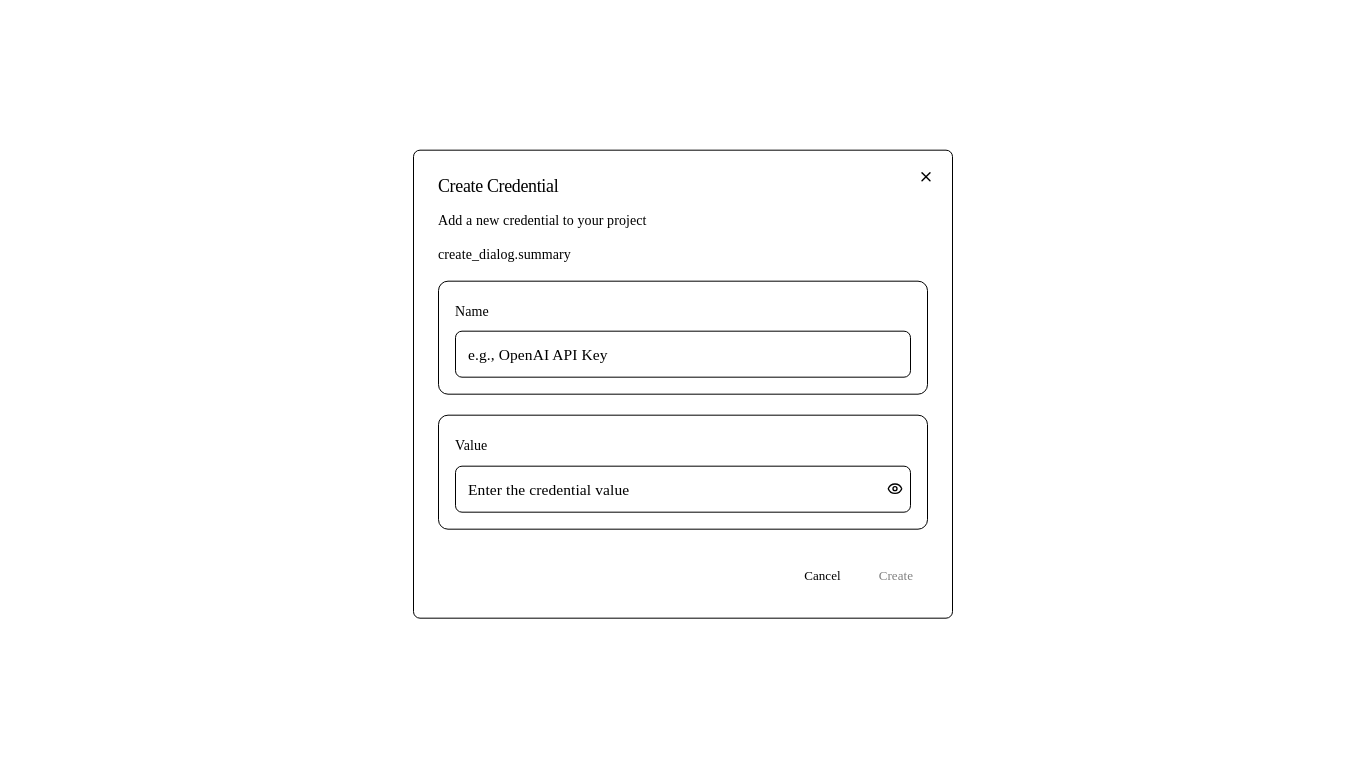
Test: CreateCredentialDialog › Form Validation › enables submit button when both fields have values
Type "My Credential" into the field labelled "Name".
click(683, 355); type("My Credential")  # box x1=455 y1=331 x2=911 y2=378
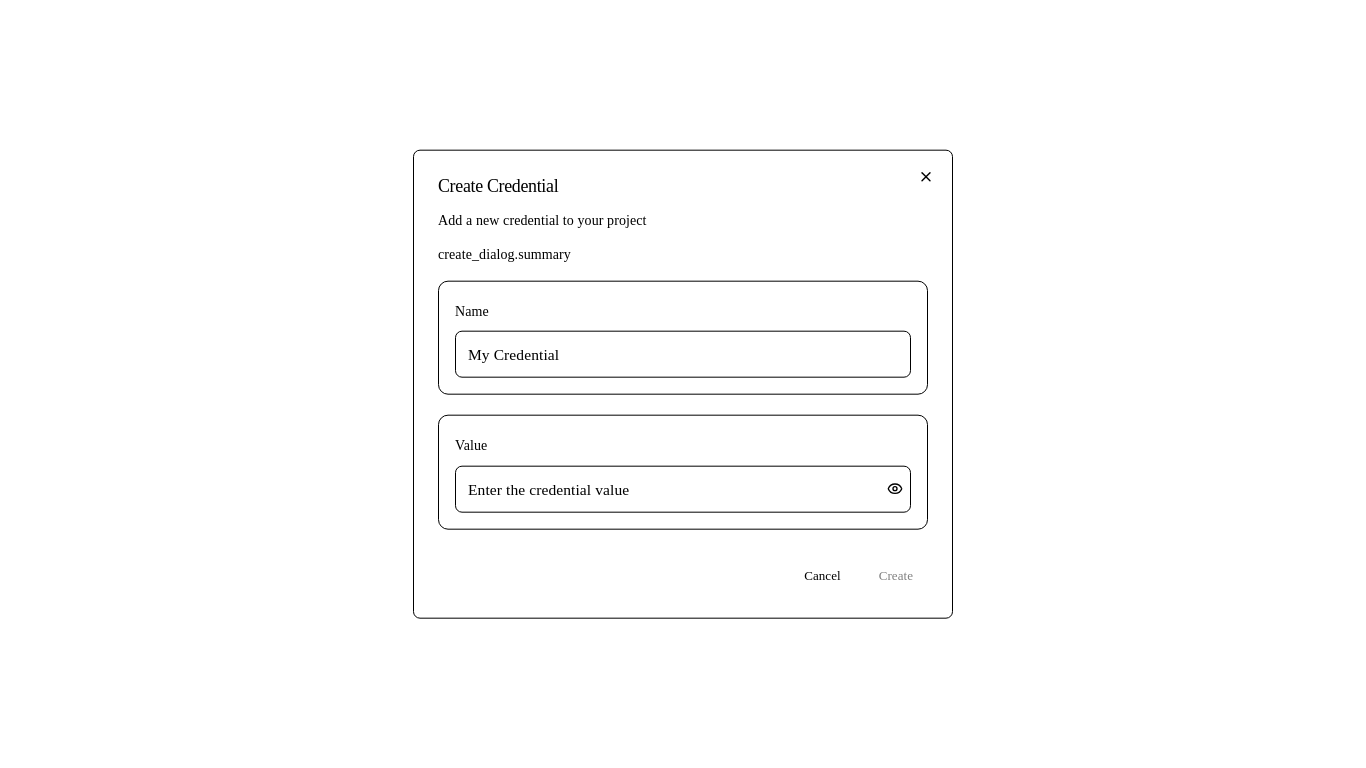
Type "secret-value" into the password field labelled "Value".
click(683, 489); type("secret-value")  # box x1=455 y1=465 x2=911 y2=512
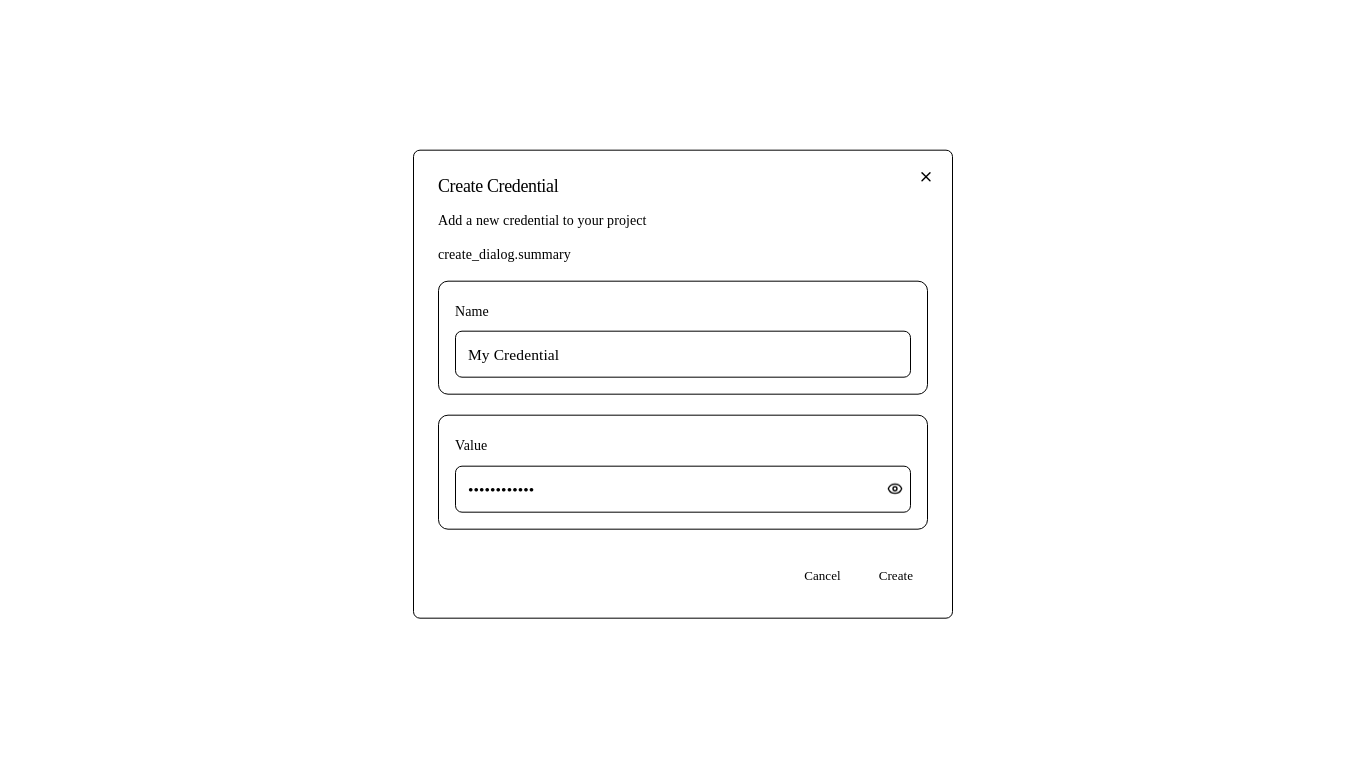
Check: the button "Create" is enabled, box x1=864 y1=557 x2=928 y2=593
